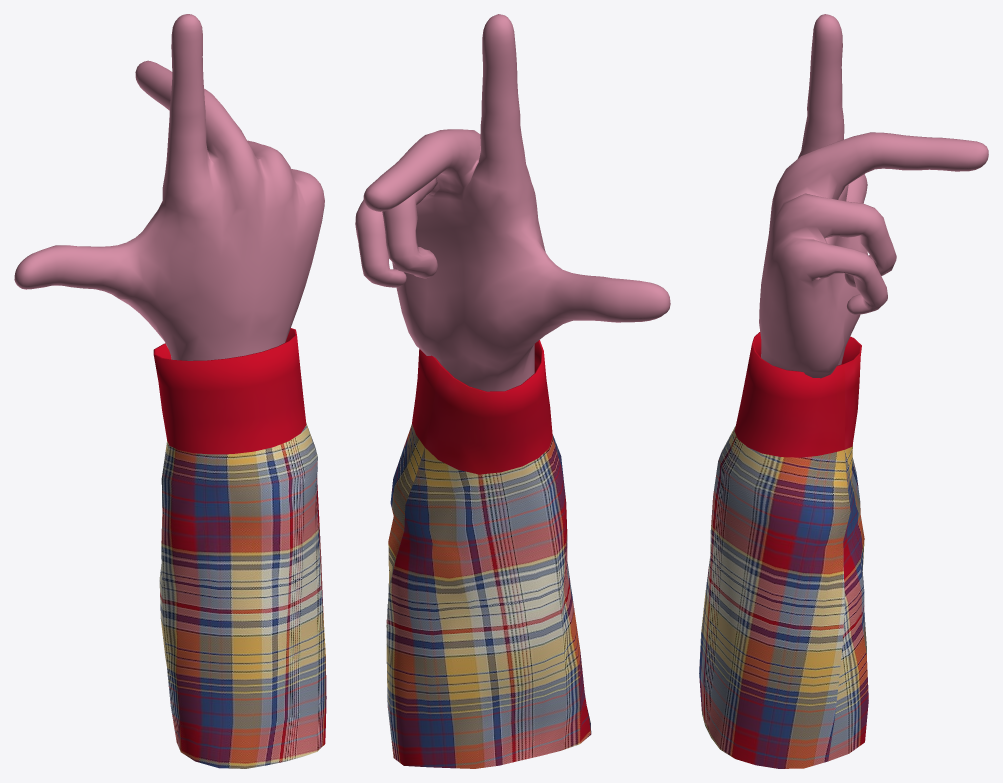
The model's file is righthandrule.glb.
3 renders of one model, left to right at view 1: azimuth 30°, elevation 25°; view 2: azimuth 150°, elevation 25°; view 3: azimuth 270°, elevation 25°, orthographic. The views are drawn at different scales.
Visible parts, largest first — view 1: SweaterR, HandR; view 2: SweaterR, HandR; view 3: SweaterR, HandR.
Boxes of the visible parts, box(x1,y1,x2,y2) form: SweaterR: box(153, 328, 326, 768); HandR: box(14, 14, 324, 360); SweaterR: box(386, 340, 591, 768); HandR: box(355, 14, 670, 391); SweaterR: box(699, 332, 868, 768); HandR: box(759, 14, 988, 378).
Size of the model in its own units: 0.5378 by 1.27 by 0.4768.
Materials: 1 (1 with a texture image).
